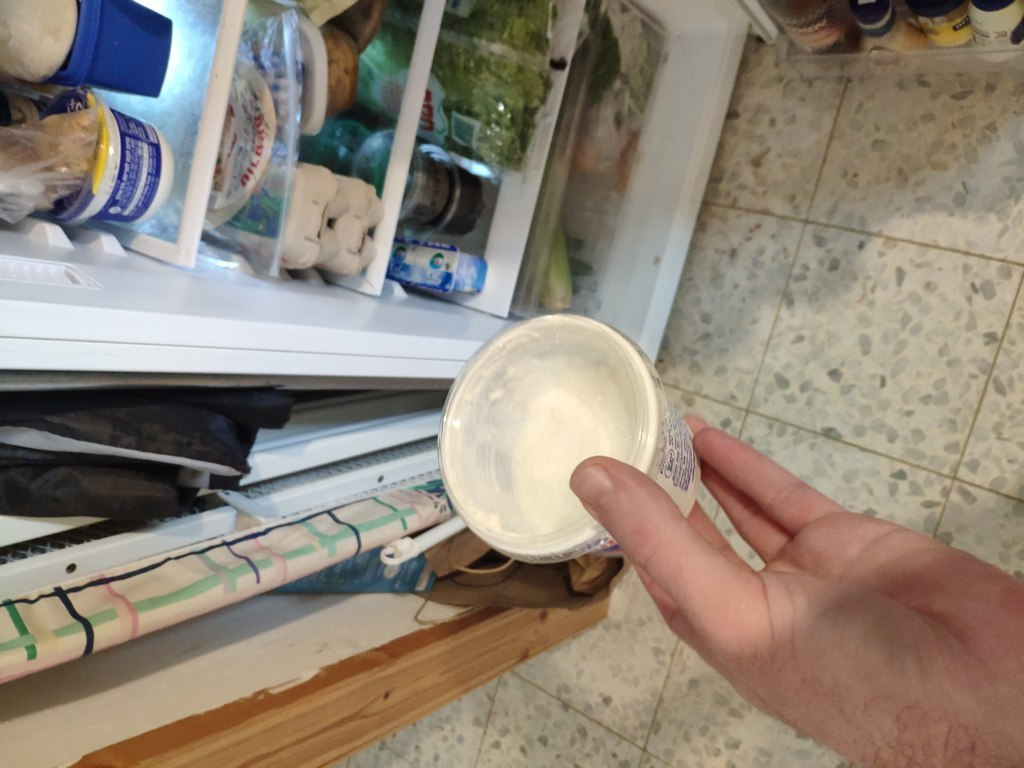Cotage: (406, 326, 712, 568)
